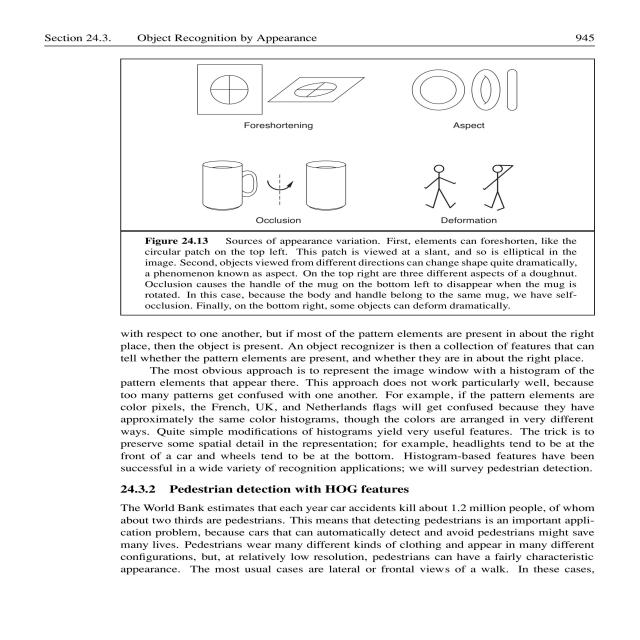diagram: (69, 52, 640, 322)
